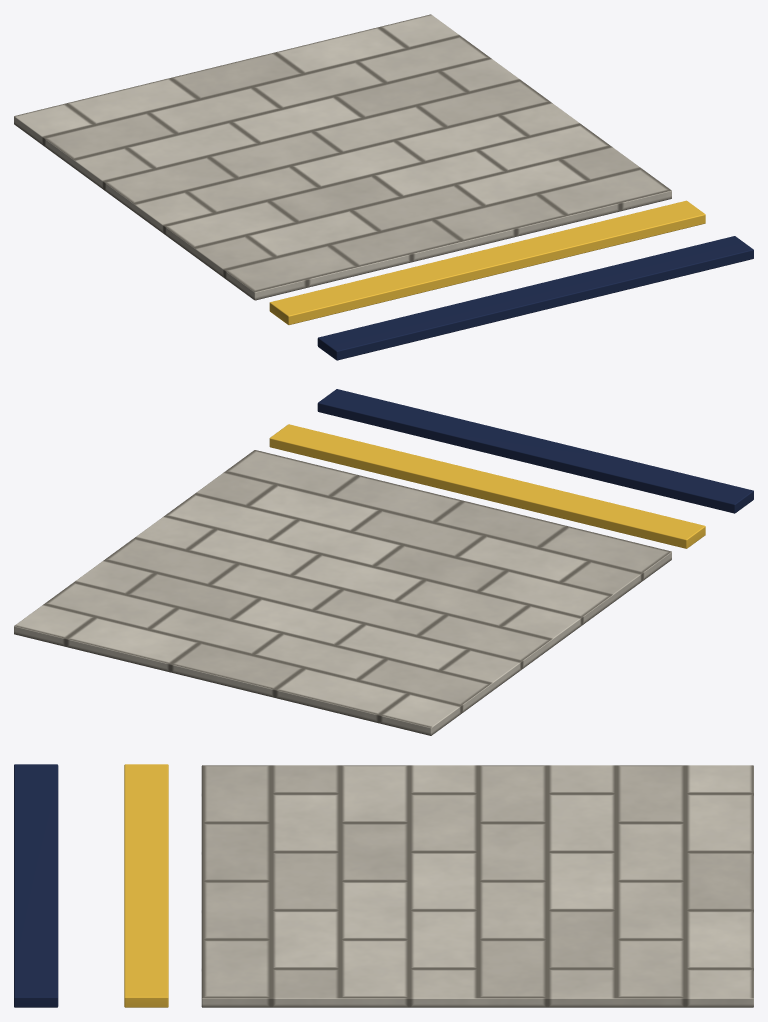
File: staff-path.fbx
3 views of the same model, one above another, from view 1: azimuth 30°, elevation 25°; view 2: azimuth 150°, elevation 25°; view 3: azimuth 270°, elevation 25° (orthographic). The views are drawn at different scales.
Parts seen in each view (by area): view 1: Body; view 2: Body; view 3: Body.
Part boxes in pixels (x1,y1,x2,y2): Body: (14, 14, 753, 360); Body: (14, 389, 753, 735); Body: (14, 764, 753, 1007).
Bounding box in the file's own units: 1 × 0.022 × 1.34.
